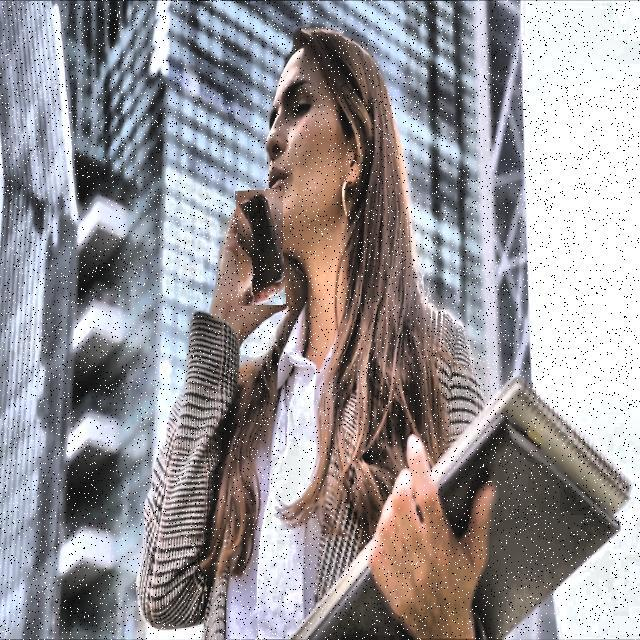Phone: (236, 188, 284, 306)
